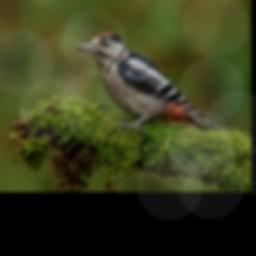Woodpecker: (75, 31, 227, 132)
